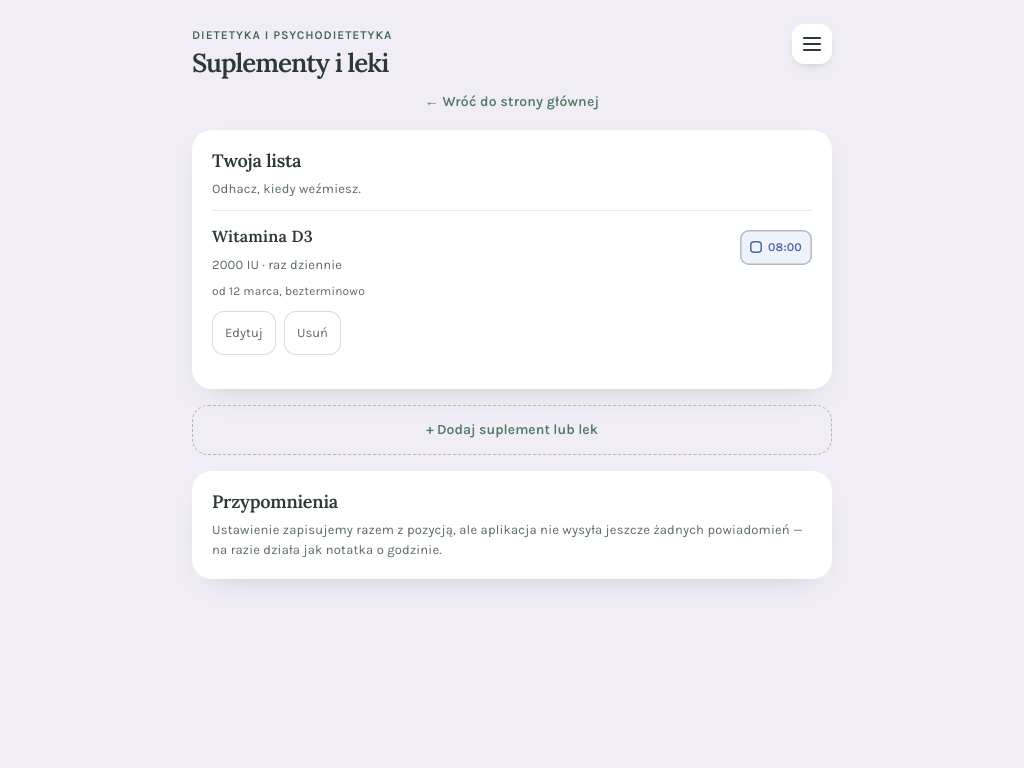
Test: odhaczanie › does not flip the box on its own when the write fails
Click the checkbox named "Witamina D3, 08:00" at (776, 247), box [740, 225, 812, 269]
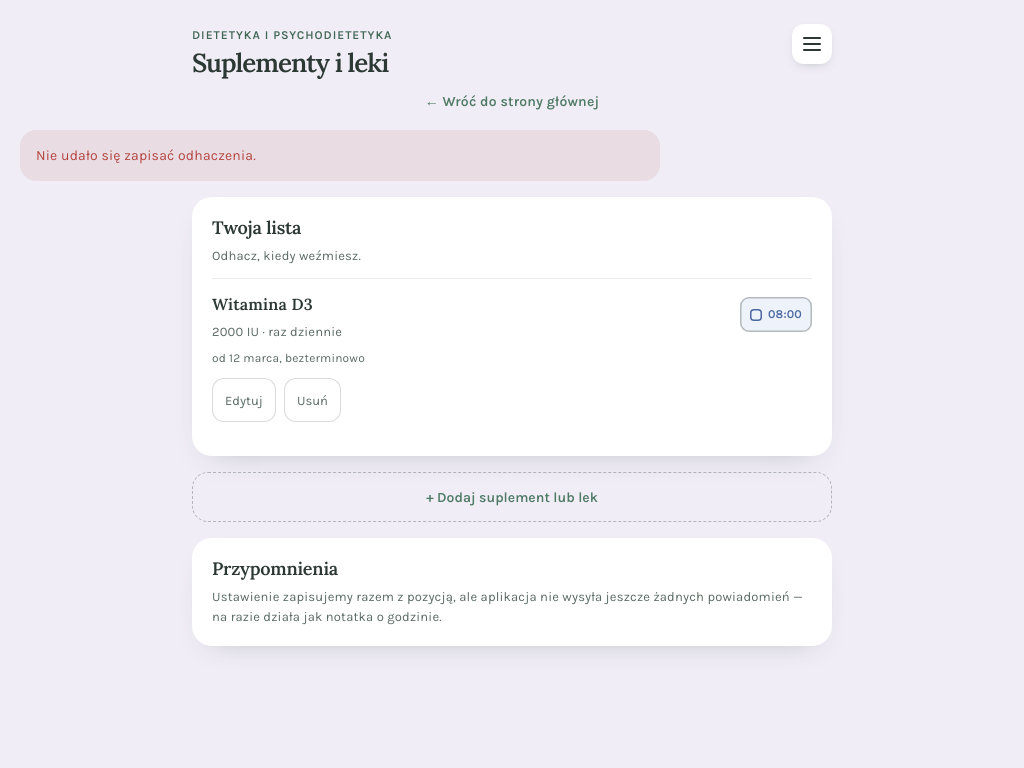
Expected: the checkbox named "Witamina D3, 08:00" is not checked, [740, 292, 812, 336]
Expected: the message shows "Nie udało się", [36, 147, 256, 164]
